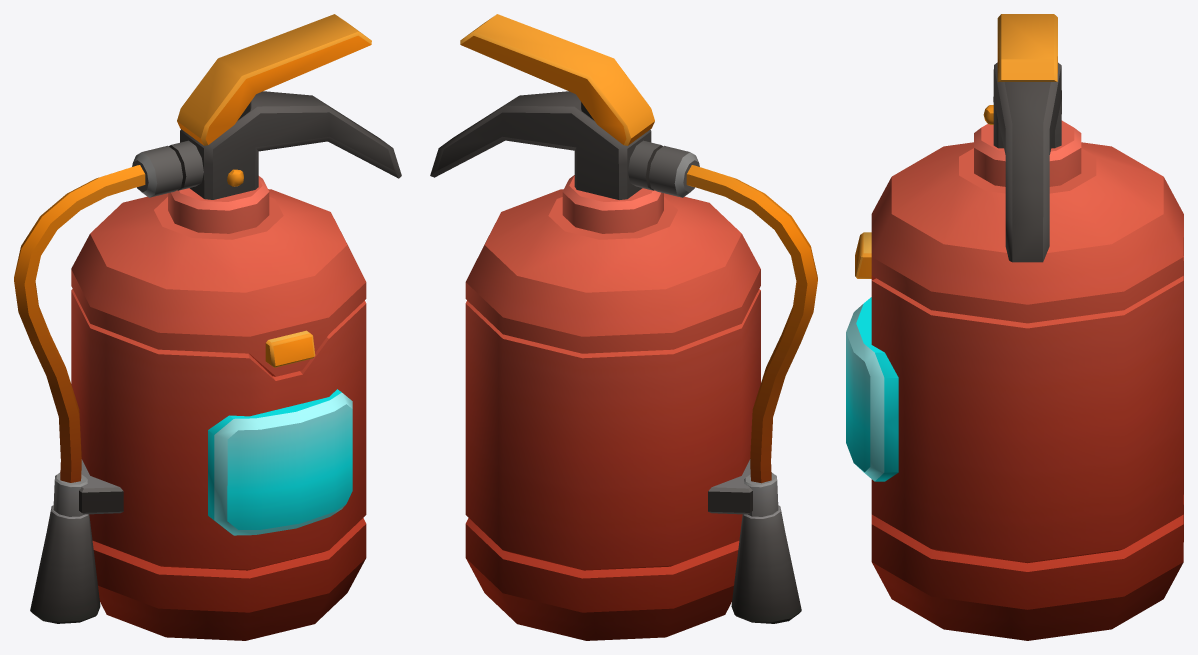
The model's file is Fire_Extinguisher_2.fbx.
The picture shows the model from 3 angles, left to right: view 1: azimuth 30°, elevation 25°; view 2: azimuth 150°, elevation 25°; view 3: azimuth 270°, elevation 25°; orthographic projection. The views are drawn at different scales.
Visible parts, largest first — view 1: Cylinder.001; view 2: Cylinder.001; view 3: Cylinder.001.
Part boxes in pixels (bbox=[...]): Cylinder.001: bbox=[14, 14, 401, 640]; Cylinder.001: bbox=[430, 14, 817, 640]; Cylinder.001: bbox=[846, 14, 1183, 640].
Bounding box in the file's own units: 38.36 × 51.35 × 26.63.
